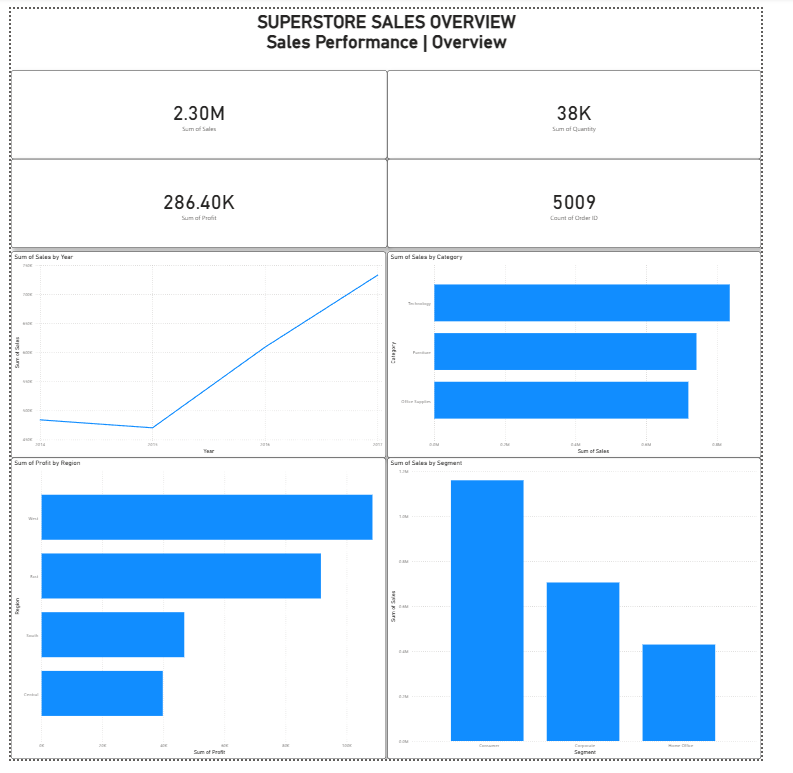

What the dashboard file says about the page in this screenshot:
{"tool":"powerbi","page":{"name":"Page 1","canvas":[2000,2000],"ordinal":0},"visuals":[{"type":"textbox","box":[367.5,0,1270,162.5],"z":0},{"type":"card","fields":{"Values":["Sum(superstore_clean.Sales)"]},"box":[0,163.3,1003.3,236.7],"z":1},{"type":"card","fields":{"Values":["Sum(superstore_clean.Profit)"]},"box":[0,400,1003.3,236.7],"z":2},{"type":"card","fields":{"Values":["Sum(superstore_clean.Quantity)"]},"box":[1003.3,163.3,996.7,236.7],"z":3},{"type":"card","fields":{"Values":["Count(superstore_clean.Order ID)"]},"box":[1003.3,400,996.7,236.7],"z":4},{"type":"lineChart","fields":{"Category":["superstore_clean.Order Date.Variation.Date Hierarchy.Year","superstore_clean.Order Date.Variation.Date Hierarchy.Quarter","superstore_clean.Order Date.Variation.Date Hierarchy.Month","superstore_clean.Order Date.Variation.Date Hierarchy.Day"],"Y":["Sum(superstore_clean.Sales)"]},"box":[0,646.7,1000,550],"z":5},{"type":"clusteredBarChart","fields":{"Category":["superstore_clean.Category"],"Y":["Sum(superstore_clean.Sales)"]},"box":[1003.3,646.7,996.7,550],"z":6},{"type":"clusteredBarChart","fields":{"Category":["superstore_clean.Region"],"Y":["Sum(superstore_clean.Profit)"]},"box":[0,1196.7,1000,803.3],"z":7},{"type":"clusteredColumnChart","fields":{"Category":["superstore_clean.Segment"],"Y":["Sum(superstore_clean.Sales)"]},"box":[1003.3,1196.7,996.7,803.3],"z":8}]}

Visuals, with their boxes in screenshot pixels (x1, y1, x2, y2), scaled from the page's 2000x2000 canvas onto the 793x773 screenshot:
textbox: <region>146, 0, 649, 63</region>
card - Sum(superstore_clean.Sales): <region>0, 63, 398, 155</region>
card - Sum(superstore_clean.Profit): <region>0, 155, 398, 246</region>
card - Sum(superstore_clean.Quantity): <region>398, 63, 792, 155</region>
card - Count(superstore_clean.Order ID): <region>398, 155, 792, 246</region>
lineChart - superstore_clean.Order Date.Variation.Date Hierarchy.Year x superstore_clean.Order Date.Variation.Date Hierarchy.Quarter: <region>0, 250, 396, 463</region>
clusteredBarChart - superstore_clean.Category x Sum(superstore_clean.Sales): <region>398, 250, 792, 463</region>
clusteredBarChart - superstore_clean.Region x Sum(superstore_clean.Profit): <region>0, 463, 396, 772</region>
clusteredColumnChart - superstore_clean.Segment x Sum(superstore_clean.Sales): <region>398, 463, 792, 772</region>
